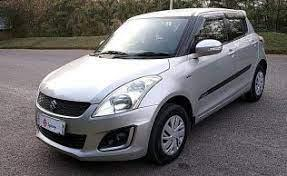Hatchback: (31, 5, 274, 164)
